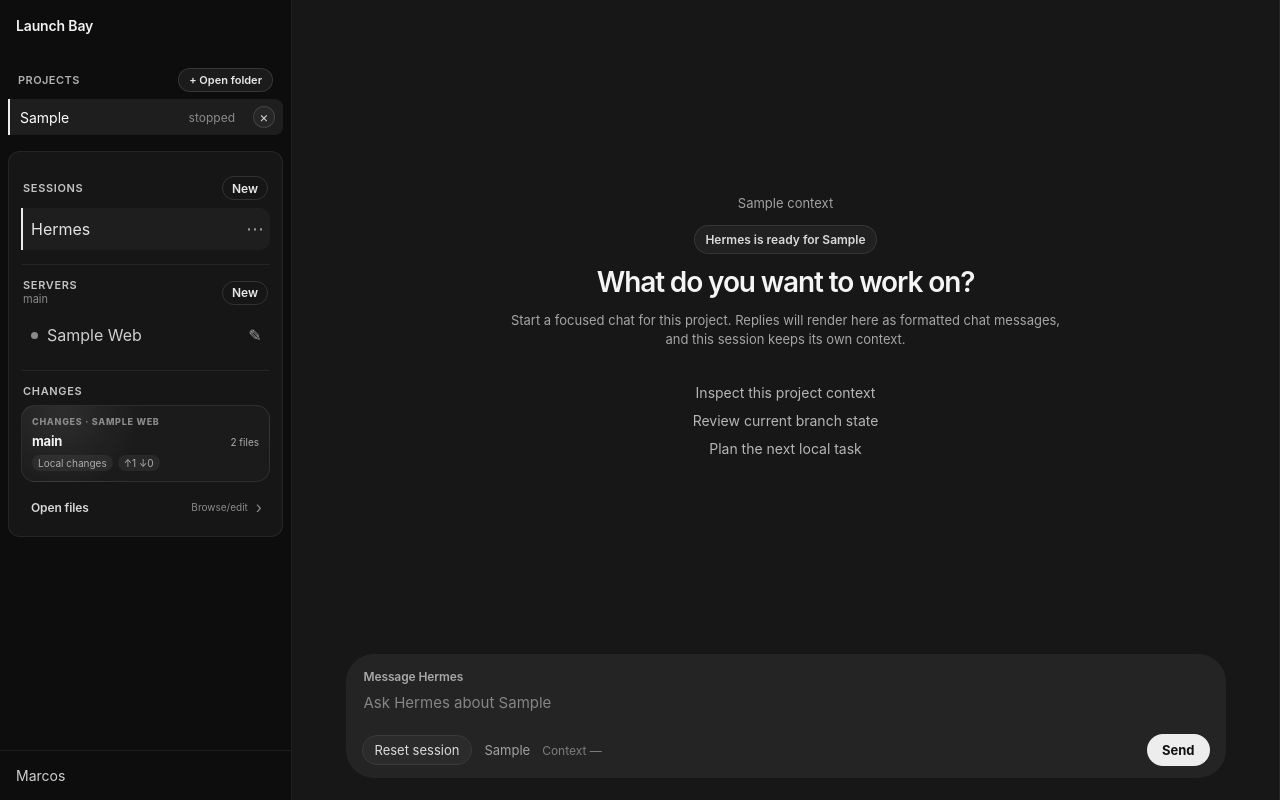
Scenario: Launch Bay shell › adds another server under the selected project and switches the Server view to it
The width and height of the screenshot is (1280, 800).
Step 1. Click the button "Servers" → [50, 285], box x1=23 y1=279 x2=77 y2=291
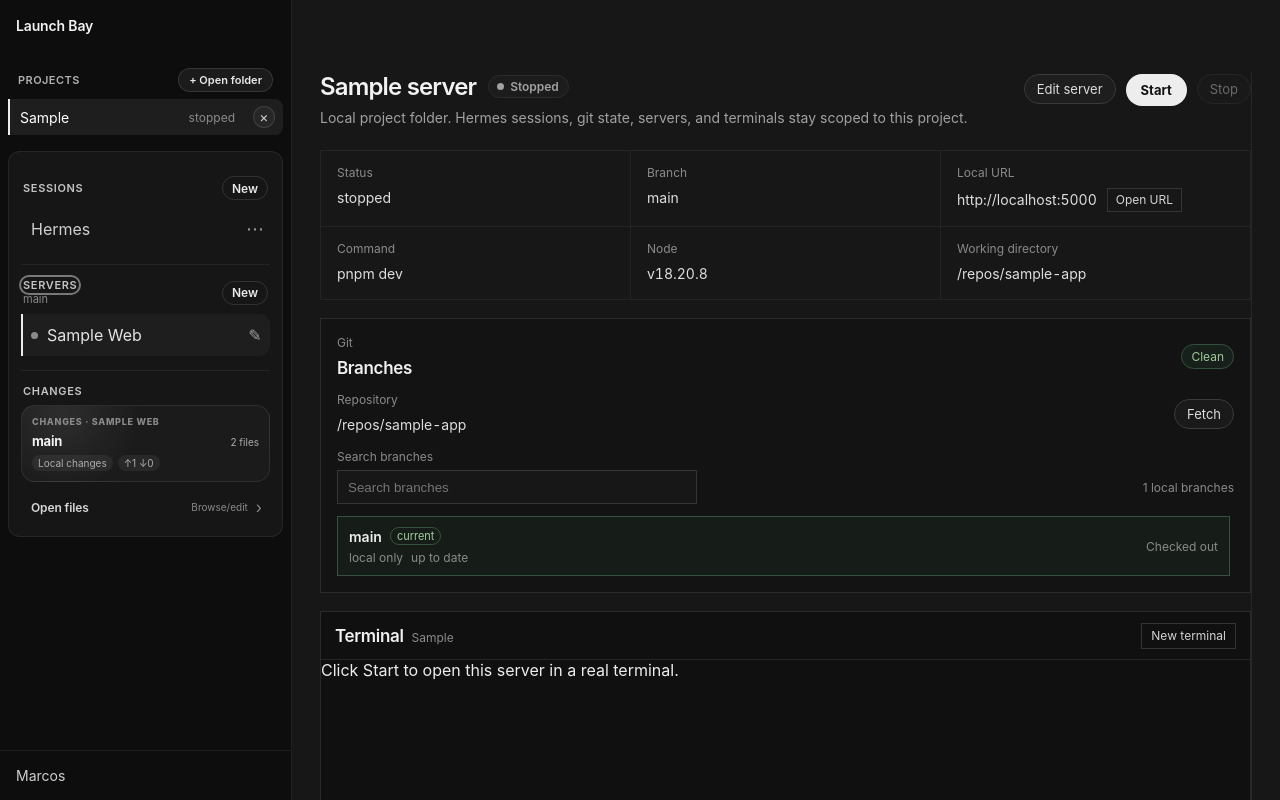
Step 2. Click the button with aria-label "New server" → [245, 293], box x1=222 y1=281 x2=268 y2=305
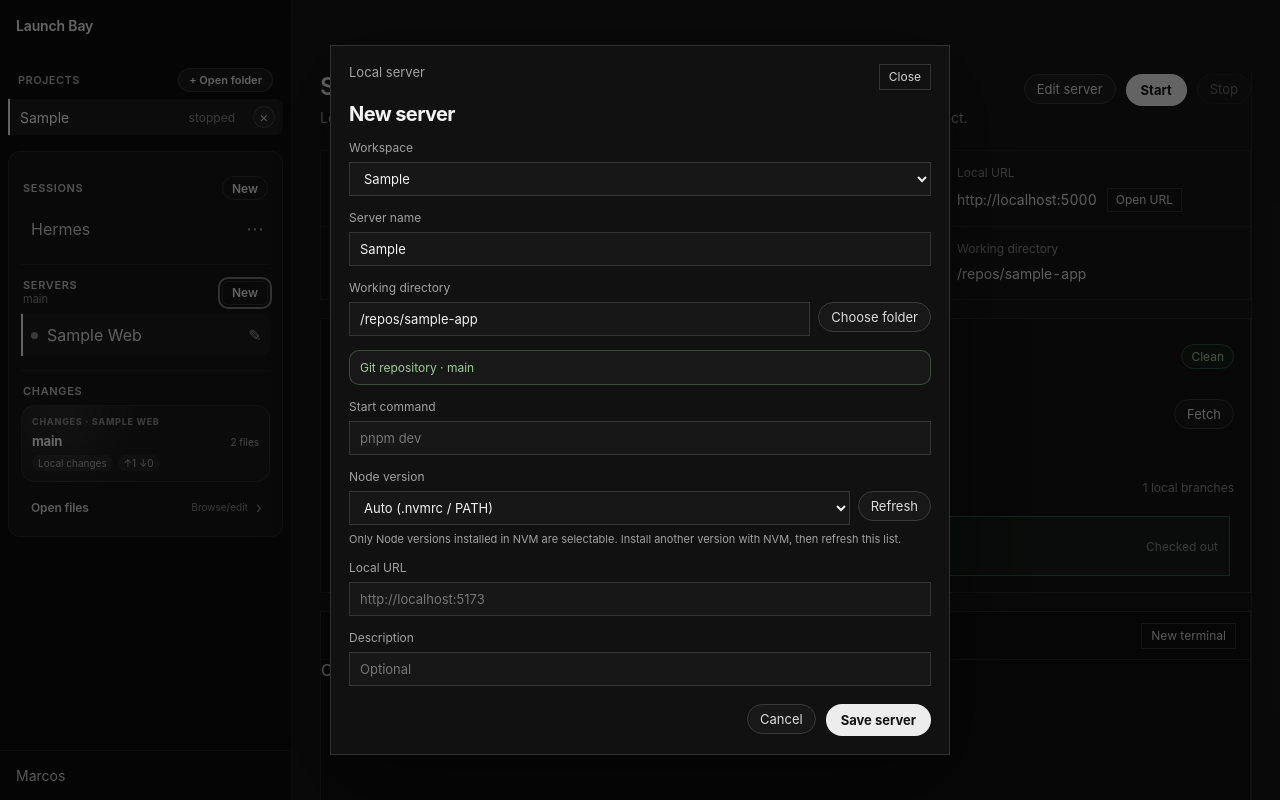
Step 3. Replace the text in the field labelled "Server name" with "Sample Storybook" → [640, 249], box x1=349 y1=232 x2=931 y2=266
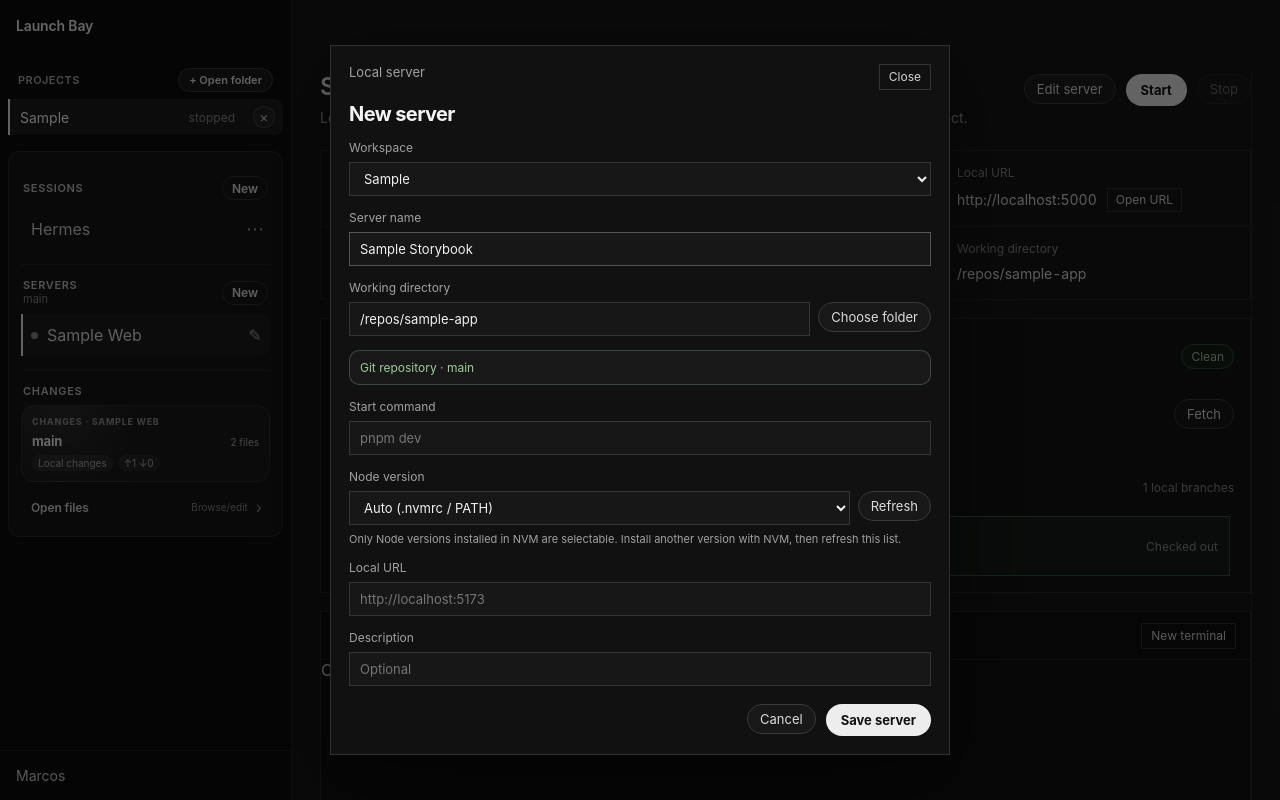
Step 4. Type "pnpm storybook" into the field labelled "Start command" → [640, 438], box x1=349 y1=421 x2=931 y2=455
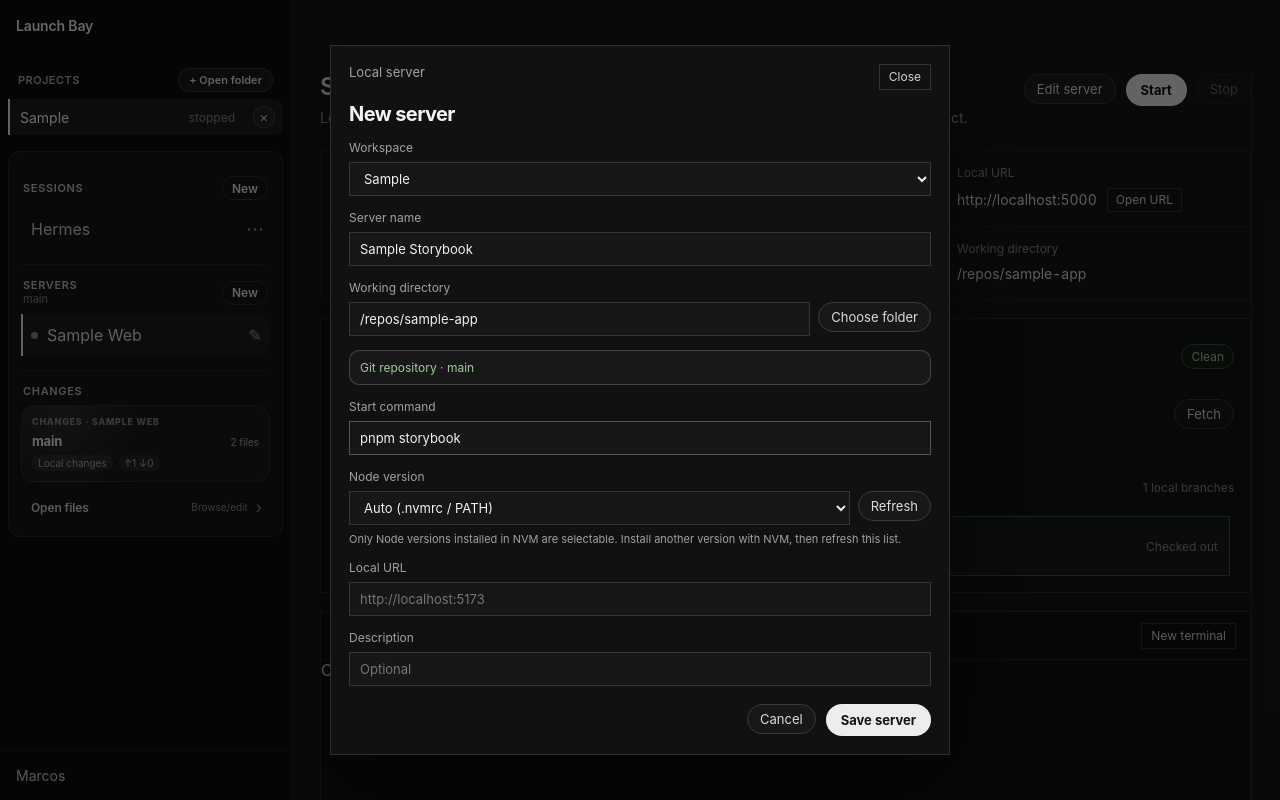
Step 5. Type "http://localhost:6006" into the field labelled "Local URL" → [640, 599], box x1=349 y1=582 x2=931 y2=616
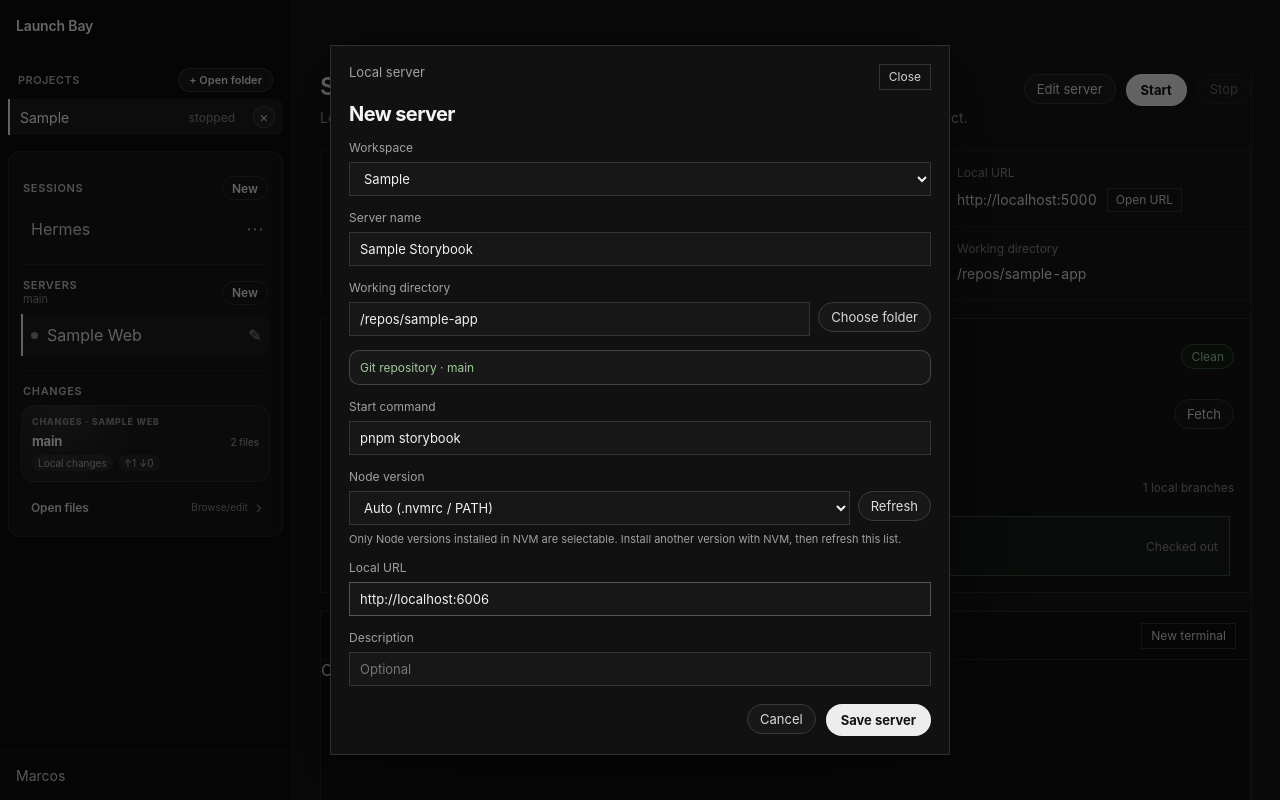
Step 6. Click the button "Save server" → [878, 720], box x1=826 y1=704 x2=931 y2=736
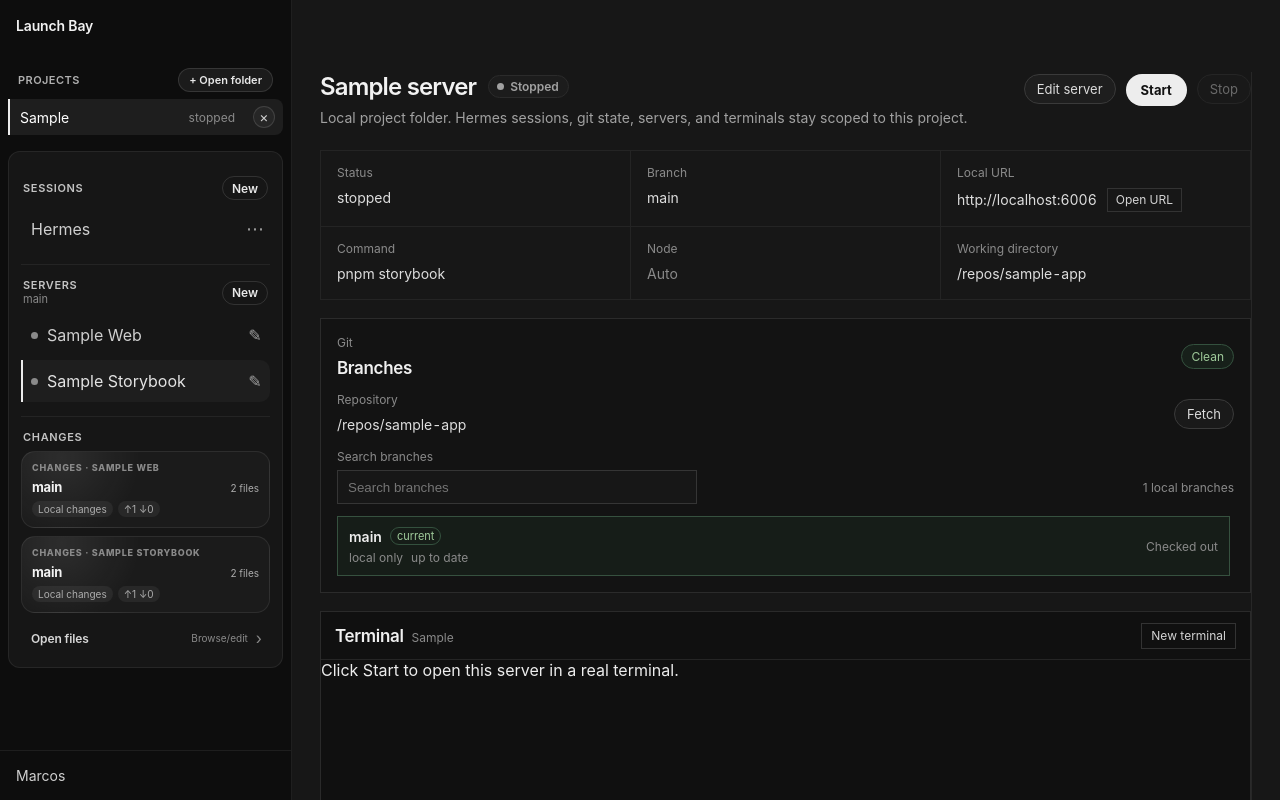
Now the text "pnpm storybook" is shown, box x1=337 y1=265 x2=445 y2=282
Now the text "http://localhost:6006" is shown, box x1=957 y1=190 x2=1097 y2=210
